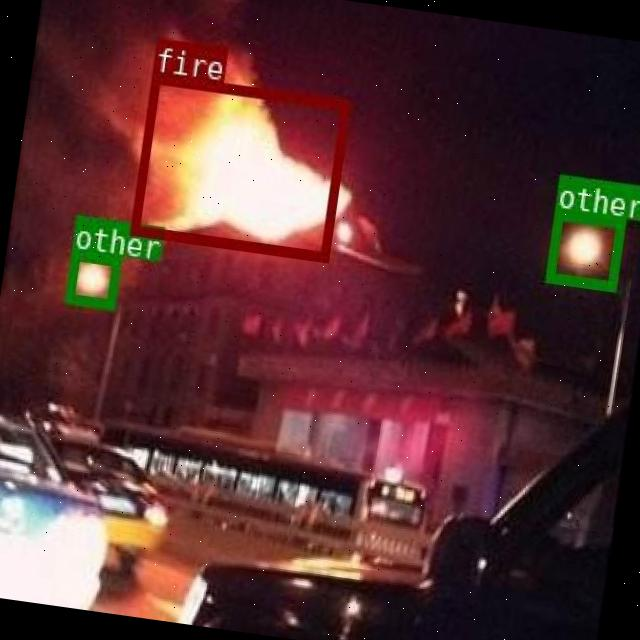fire: (130, 73, 350, 260)
